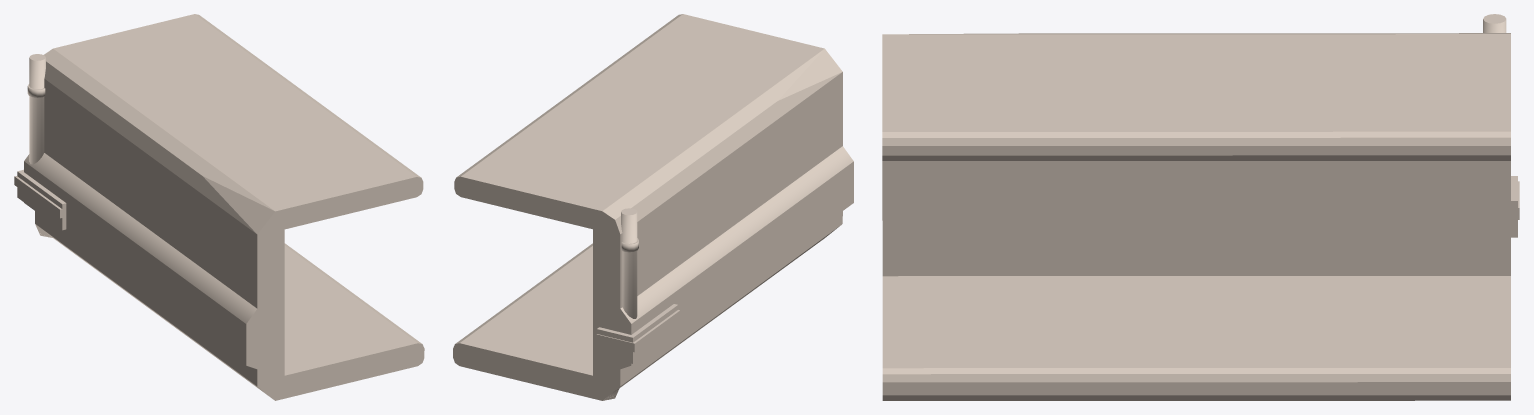
Rendered from 升降梯物件1.fbx.
3 views of the same model, side by side, from view 1: azimuth 30°, elevation 25°; view 2: azimuth 150°, elevation 25°; view 3: azimuth 270°, elevation 25° (orthographic). The views are drawn at different scales.
Parts seen in each view (by area): view 1: Cube_001_2.002, 圓柱體, 立方體.005; view 2: Cube_001_2.002, 立方體.005, 圓柱體; view 3: Cube_001_2.002.
Part boxes in pixels (x1=…): Cube_001_2.002: x1=24, y1=14, x2=424, y2=400; 圓柱體: x1=27, y1=54, x2=45, y2=164; 立方體.005: x1=14, y1=169, x2=66, y2=230; Cube_001_2.002: x1=453, y1=14, x2=853, y2=400; 立方體.005: x1=596, y1=304, x2=680, y2=363; 圓柱體: x1=621, y1=208, x2=638, y2=318; Cube_001_2.002: x1=882, y1=33, x2=1510, y2=400.
Size of the model in its own units: 473 by 466 by 1001.
